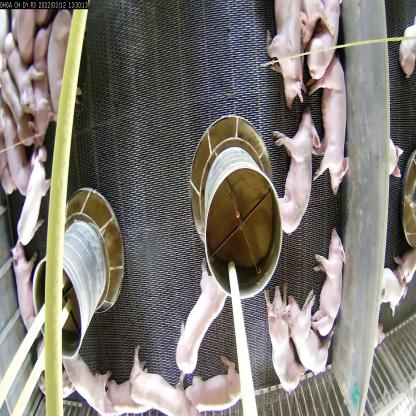Pig: (176, 258, 229, 382), (271, 108, 319, 238), (312, 57, 353, 202), (129, 340, 202, 415), (280, 281, 335, 376), (263, 0, 310, 109), (262, 277, 304, 397), (26, 19, 60, 144), (310, 229, 349, 337), (46, 10, 81, 129), (186, 350, 248, 415), (15, 141, 52, 247), (62, 345, 116, 415), (5, 30, 44, 119), (7, 240, 42, 336), (304, 0, 343, 83), (0, 65, 34, 147), (0, 109, 31, 197), (106, 361, 154, 416), (379, 260, 409, 320)
